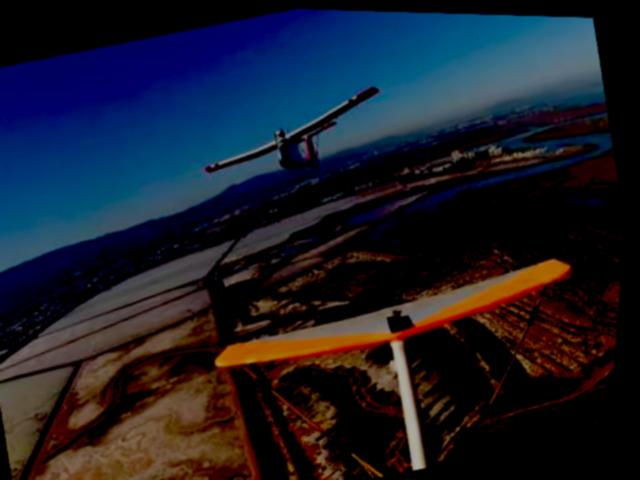uav: (187, 72, 403, 199)
